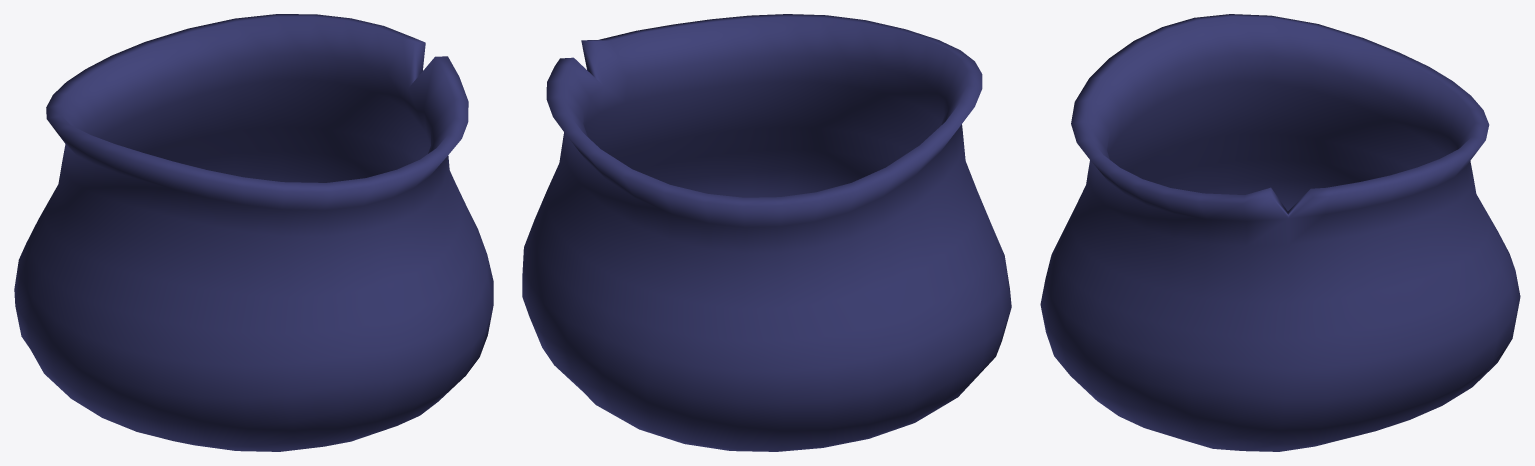
3 renders of one model, left to right at view 1: azimuth 30°, elevation 25°; view 2: azimuth 150°, elevation 25°; view 3: azimuth 270°, elevation 25°, orthographic. The views are drawn at different scales.
Parts seen in each view (by area): view 1: Roundcube; view 2: Roundcube; view 3: Roundcube.
Boxes of the visible parts, <box> form: Roundcube: <box>14,14,493,451</box>; Roundcube: <box>522,14,1011,451</box>; Roundcube: <box>1040,14,1520,451</box>.
Size of the model in its own units: 34.96 by 25.79 by 35.14.
